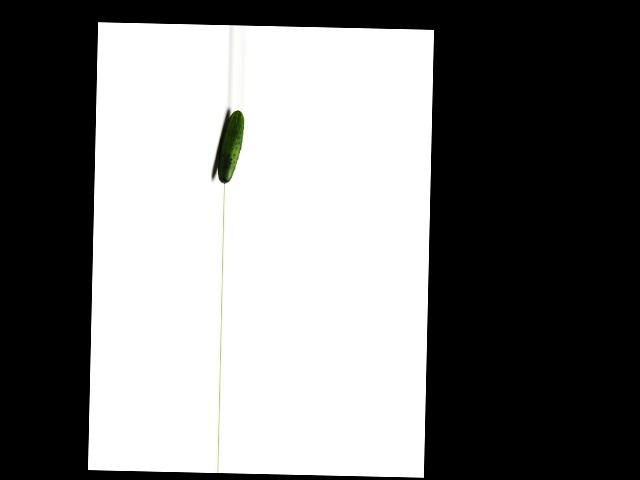cucumber: (216, 110, 244, 184)
